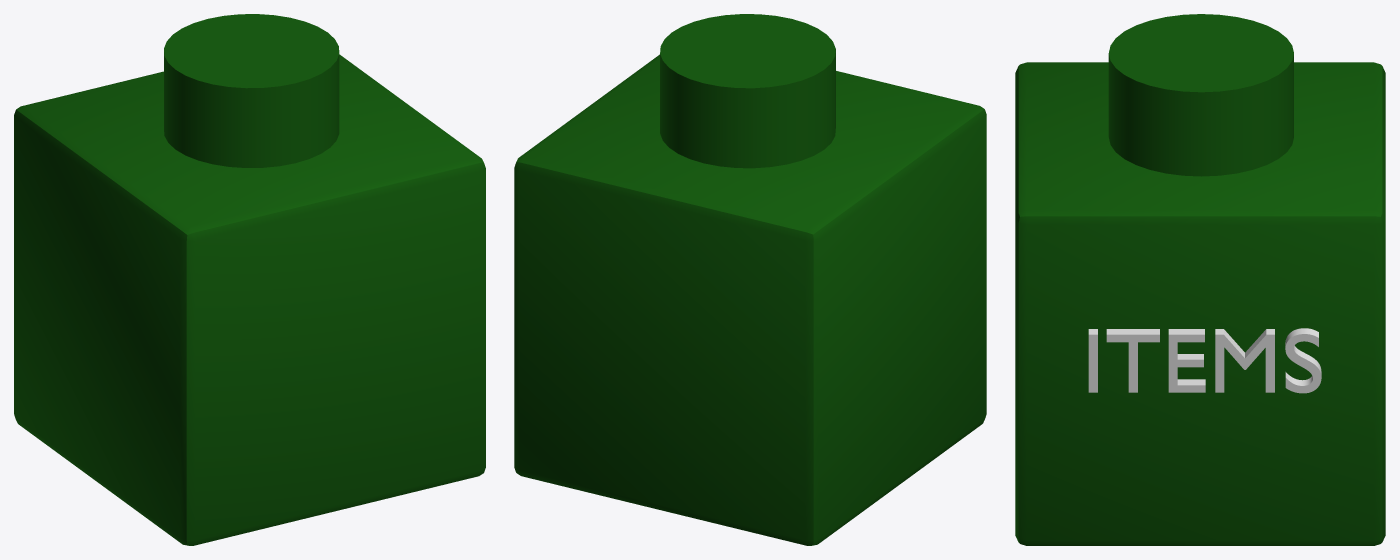
The model's file is Items.fbx.
3 views of the same model, side by side, from view 1: azimuth 30°, elevation 25°; view 2: azimuth 150°, elevation 25°; view 3: azimuth 270°, elevation 25° (orthographic). The views are drawn at different scales.
Visible parts, largest first — view 1: Cube, Cylinder; view 2: Cube, Cylinder; view 3: Cube, Cylinder, Text.
Boxes of the visible parts, x1,y1,x2,y2 form: Cube: (14, 54, 485, 545); Cylinder: (164, 14, 339, 167); Cube: (514, 54, 986, 545); Cylinder: (660, 14, 835, 168); Cube: (1015, 62, 1385, 545); Cylinder: (1108, 14, 1293, 176); Text: (1088, 328, 1321, 393).
Bounding box in the file's own units: 207 × 250 × 200.
